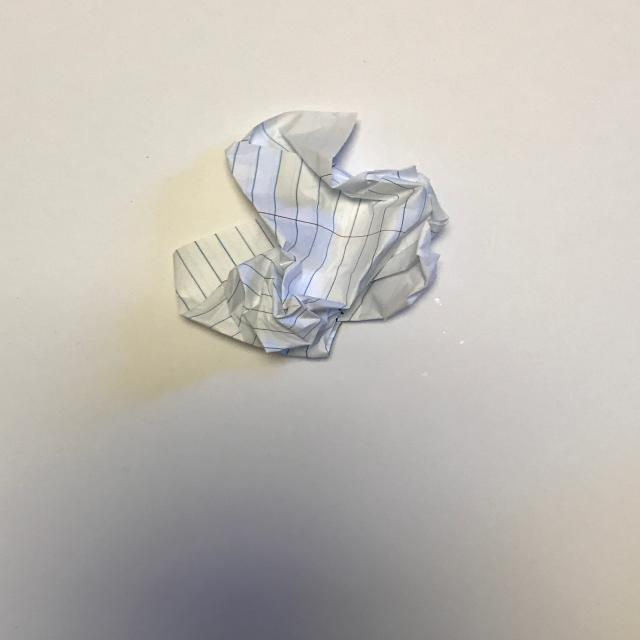paper: (135, 72, 481, 373)
